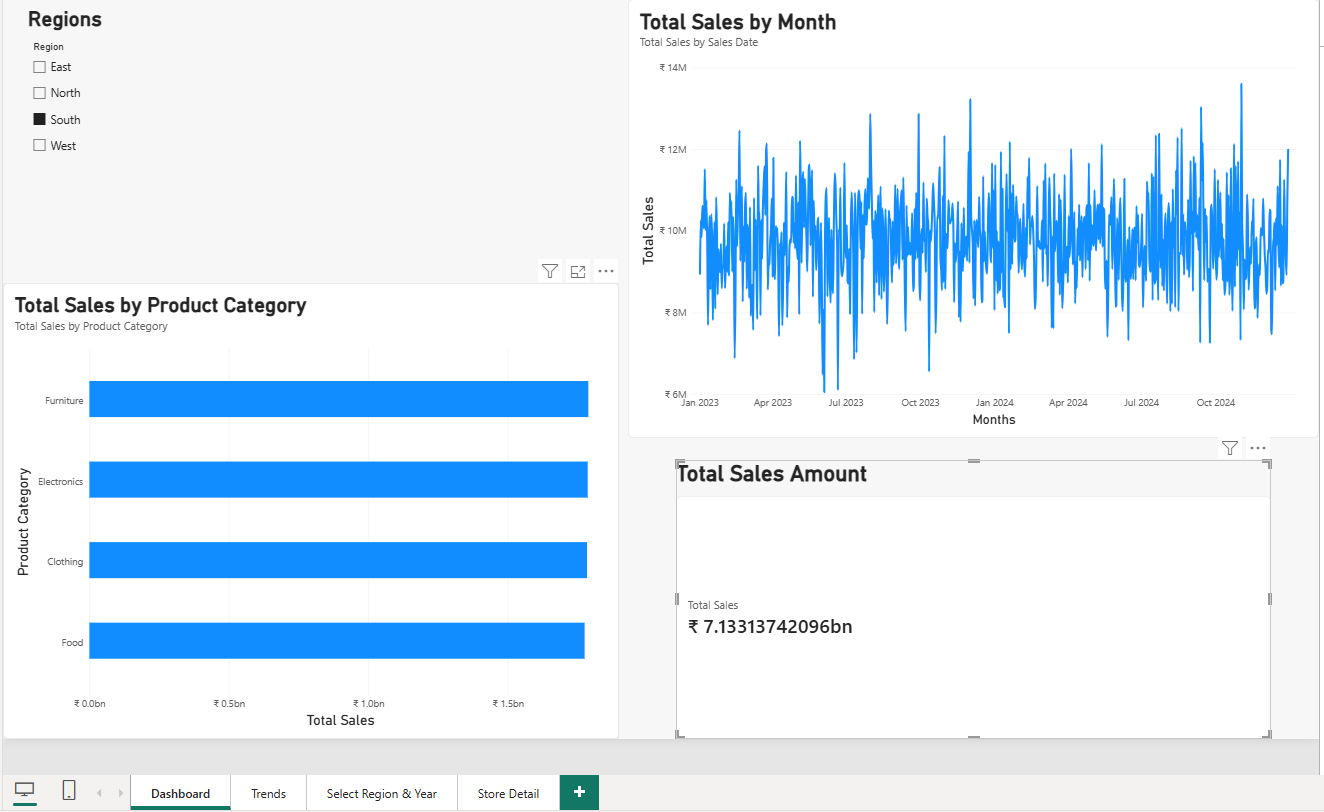

What the dashboard file says about the page in this screenshot:
{"tool":"powerbi","page":{"name":"Dashboard","canvas":[1920,1080],"ordinal":0},"visuals":[{"type":"cardVisual","title":"Total Sales Amount","fields":{"Data":["Sales.Total Sales"]},"box":[981.9,672.6,868.1,407.1],"z":0},{"type":"clusteredBarChart","title":"Total Sales by Product Category","fields":{"Category":["Product.Product Category"],"Y":["Sales.Total Sales"]},"box":[0,414.3,898.7,665.3],"z":1000},{"type":"lineChart","title":"Total Sales by Month","fields":{"Category":["Sales.Sales Date.Variation.Date Hierarchy.Year"],"Y":["Sales.Total Sales"]},"box":[911.9,0,1008.1,640.5],"z":2000},{"type":"slicer","title":"Regions","fields":{"Values":["Store.Region"]},"box":[36.5,11.7,456.7,389.5],"z":3000}]}

Visuals, with their boxes on the page's 1920x1080 design canvas (x1, y1, x2, y2). These are canvas units, not pixel positions in the 1324x812 screenshot, which may show the page scaled, cropped or inside an application window:
"Total Sales Amount" cardVisual: (left=982, top=673, right=1850, bottom=1080)
"Total Sales by Product Category" clusteredBarChart: (left=0, top=414, right=899, bottom=1080)
"Total Sales by Month" lineChart: (left=912, top=0, right=1920, bottom=640)
"Regions" slicer: (left=36, top=12, right=493, bottom=401)
